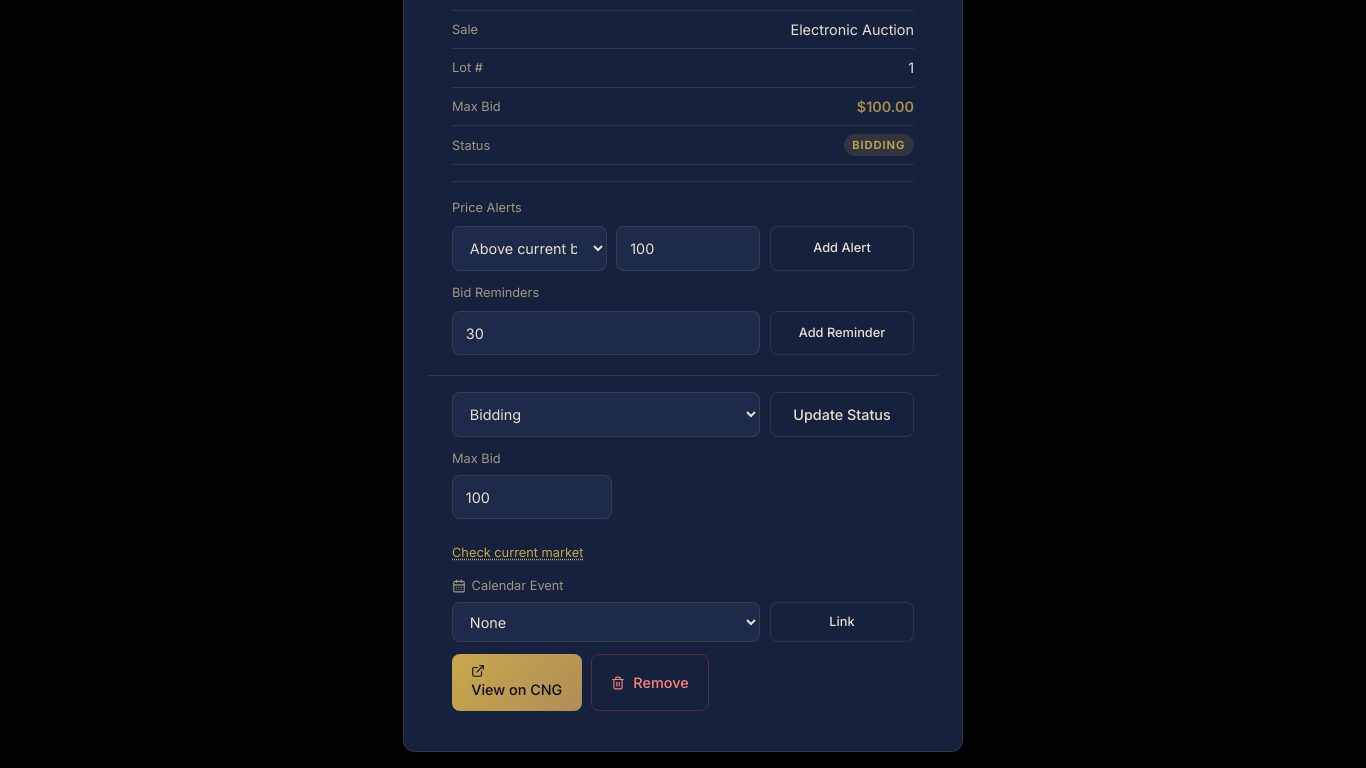
Test: AuctionLotDetailModal › persists a winning bid when the status changes to won
The image size is (1366, 768).
(page scrolled)
Select "Won" in the 2nd dropdown at (606, 414), box 452,392 -> 760,437
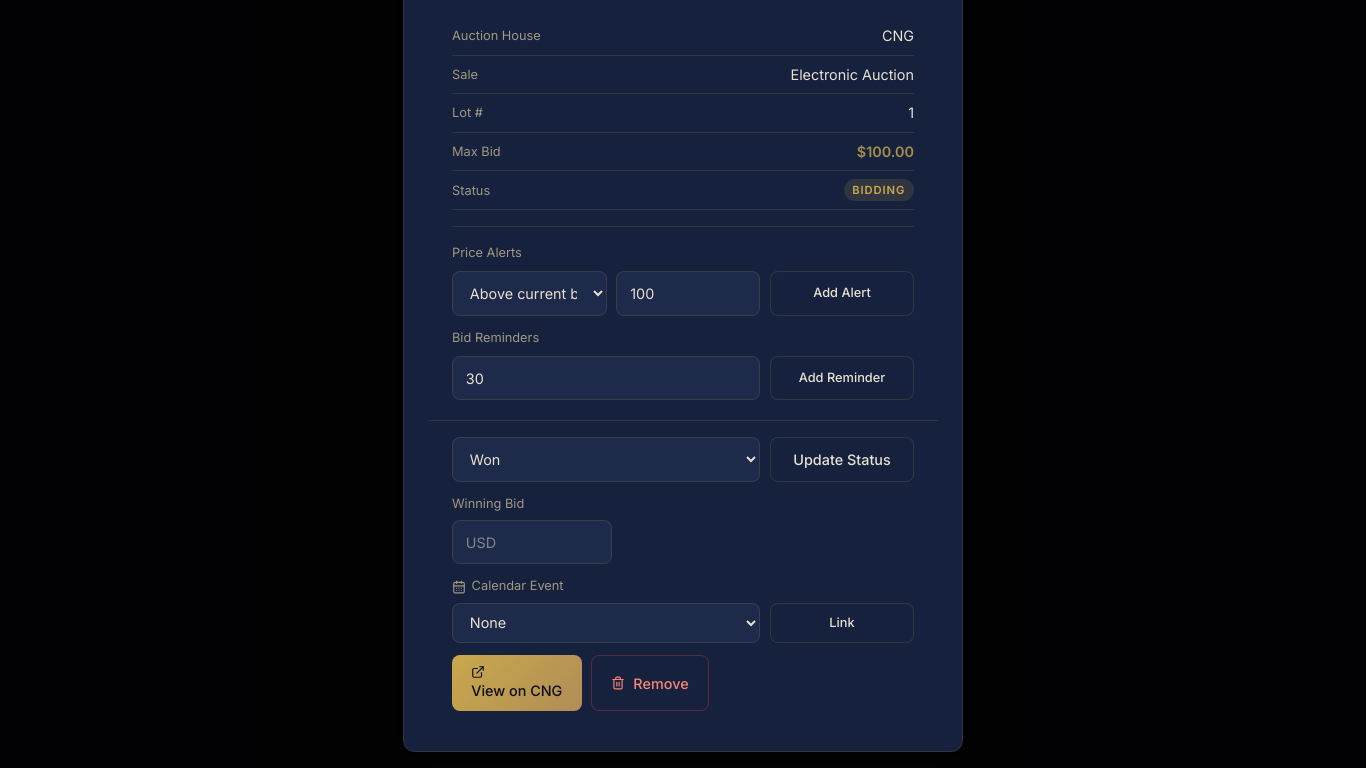
Type "175.5" into the number field with class "winning-bid-input" at (532, 542), box 452,520 -> 612,564
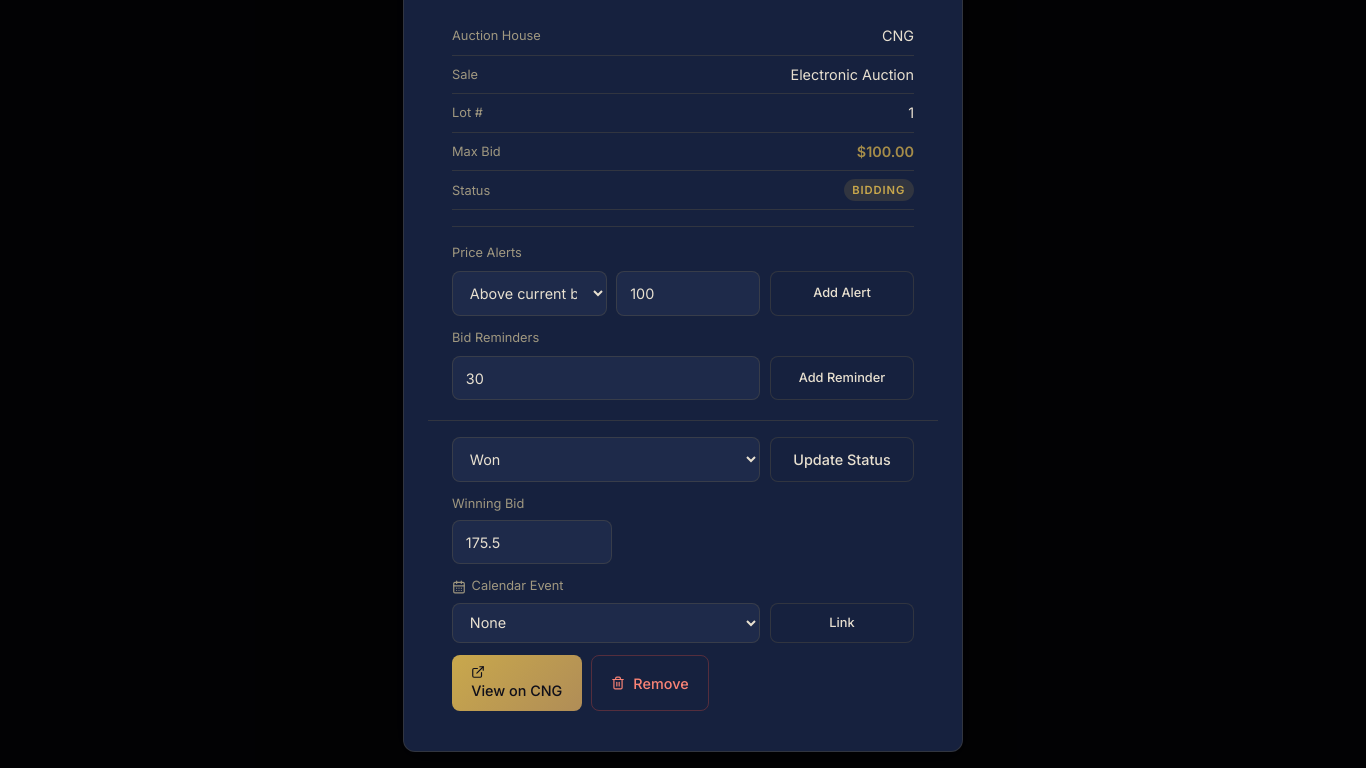
Click the button "Update Status" at (842, 460), box 770,437 -> 914,482
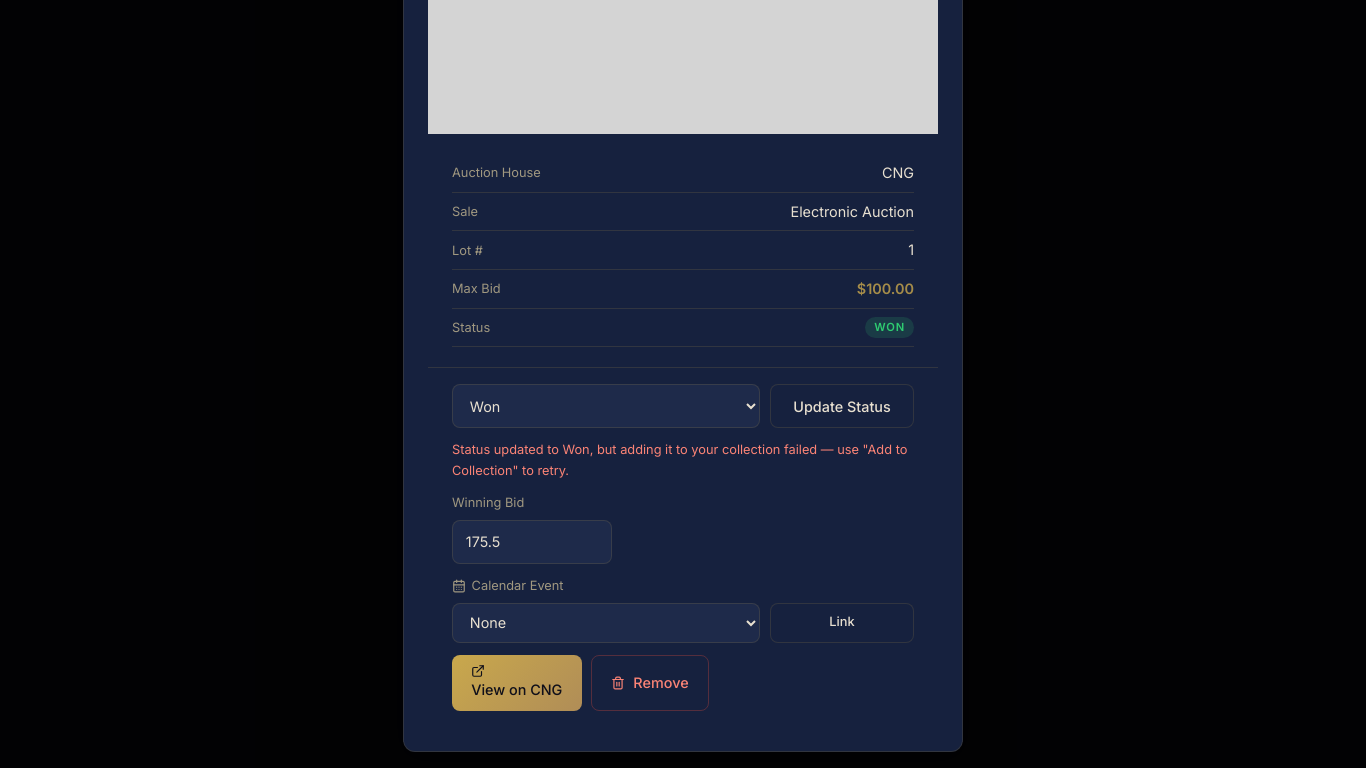
Expected: the text "won" is shown, 865,317 -> 914,338
